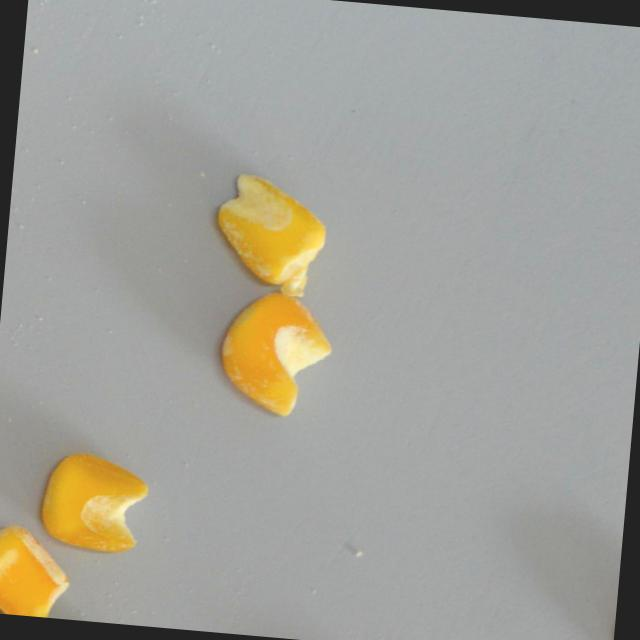pelicula: (199, 166, 336, 301), (211, 285, 337, 420), (36, 447, 153, 557), (0, 520, 83, 620)
